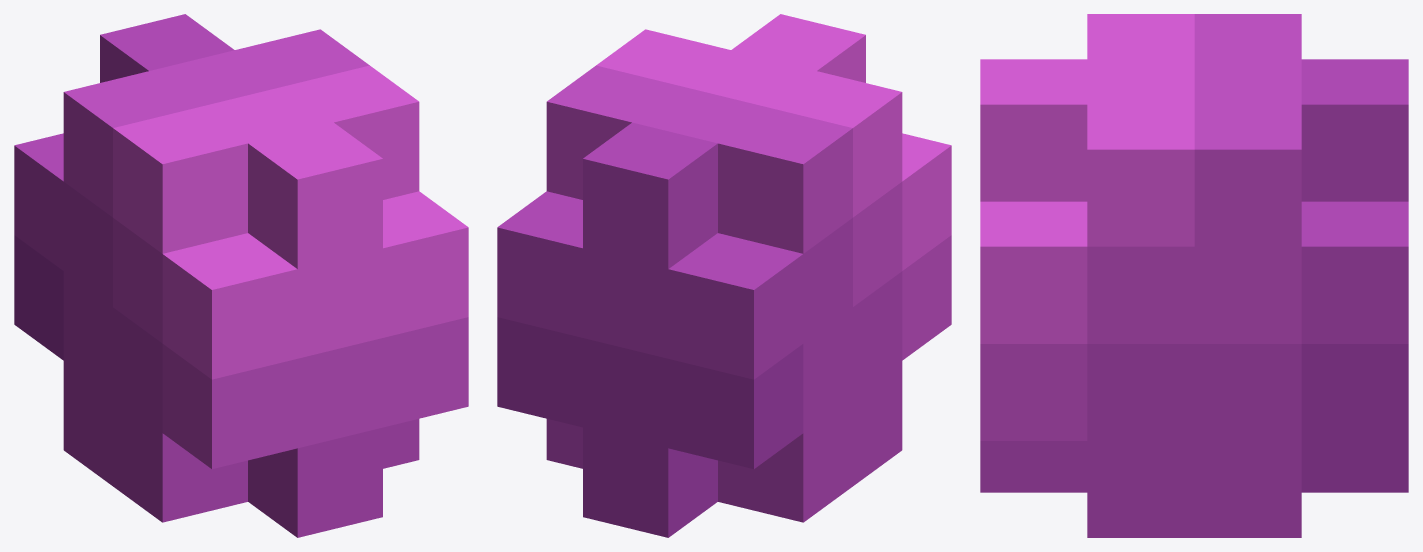
The model's file is ametist.fbx.
3 renders of one model, left to right at view 1: azimuth 30°, elevation 25°; view 2: azimuth 150°, elevation 25°; view 3: azimuth 270°, elevation 25°, orthographic. The views are drawn at different scales.
Parts seen in each view (by area): view 1: Ametist; view 2: Ametist; view 3: Ametist.
Part boxes in pixels (x1,y1,x2,y2): Ametist: (14, 14, 468, 537); Ametist: (497, 14, 951, 537); Ametist: (980, 14, 1408, 537).
Size of the model in its own units: 30 by 40 by 40.
